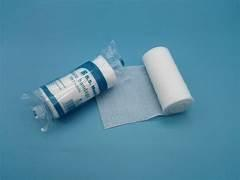Bandage: (23, 42, 192, 130), (24, 42, 122, 130), (97, 47, 192, 127)
